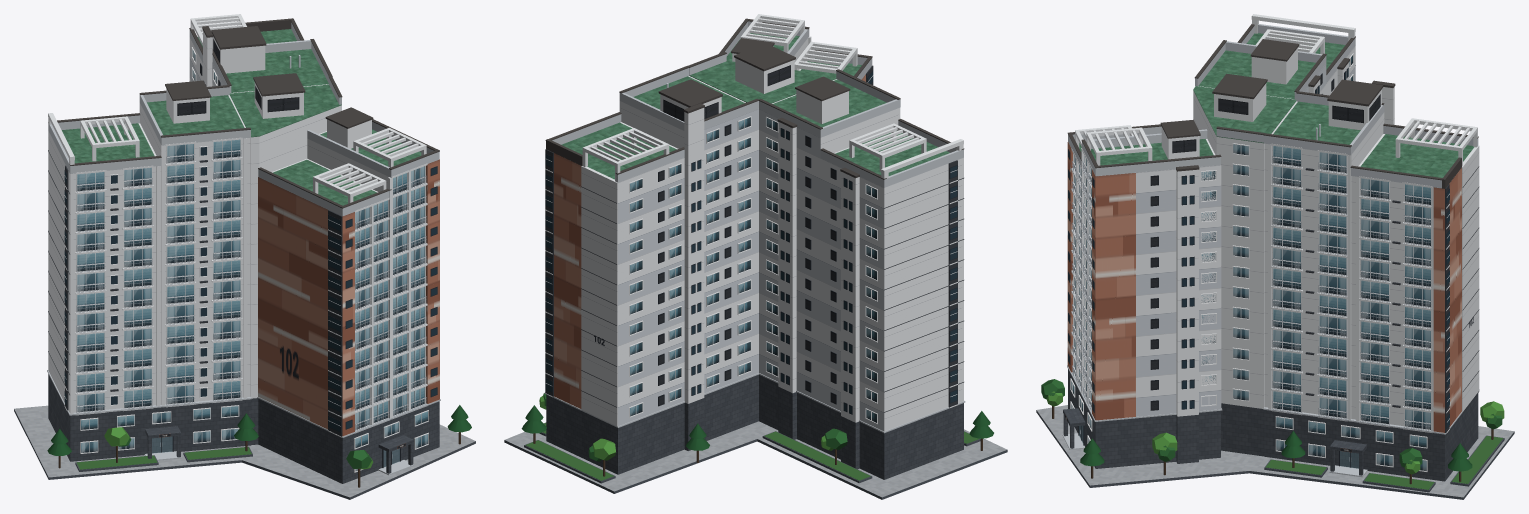
The model's file is place_금호센트럴자이102.glb.
3 views of the same model, side by side, from view 1: azimuth 30°, elevation 25°; view 2: azimuth 150°, elevation 25°; view 3: azimuth 270°, elevation 25° (orthographic).
Visible parts, largest first — view 1: Merged_Glass_FrontB (×2), Merged_Glass_FrontA (×2), Merged_WW_PrecastCore, Merged_Win_WhitePVC (×2), Merged_SE_SW_Terracotta102, Merged_Balc_SilverRail (×2), Merged_Roof_GreenDeck (×3), SiteEnv_ApartmentDeck_Base, Merged_SE_GraniteBase, Merged_Slab_WhiteEdge (×2), Merged_WW_GraniteBase, Merged_Roof_Parapet (×3) (+31 smaller); view 2: Merged_NW_RearBands, Merged_WW_RearBands, Merged_WW_PrecastCore, Merged_Rear_CoreWhite (×2), Merged_NW_WhiteHalfPanel, Merged_NW_GraniteBase, Merged_Glass_Rear (×2), Merged_WW_GraniteBase, SiteEnv_ApartmentDeck_Base, Merged_Roof_Parapet (×3), Merged_NW_TerracottaNorth, Merged_Pergola_White (×3) (+25 smaller); view 3: Merged_Glass_FrontB (×3), Merged_Win_WhitePVC (×3), Merged_SE_NE_Banded, Merged_Glass_FrontA (×2), Merged_NW_PrecastCore, Merged_Hub_PrecastWhite, Merged_SE_NE_TerrWrap, Merged_Balc_SilverRail (×2), Merged_Roof_GreenDeck (×3), SiteEnv_ApartmentDeck_Base, Merged_NW_GraniteBase, Merged_Roof_Parapet (×3) (+40 smaller).
Boxes of the visible parts, bbox=[...] form: Merged_Glass_FrontB (×2): bbox=[77, 144, 427, 471]; Merged_Glass_FrontA (×2): bbox=[77, 139, 427, 448]; Merged_WW_PrecastCore: bbox=[48, 95, 250, 412]; Merged_Win_WhitePVC (×2): bbox=[76, 139, 428, 472]; Merged_SE_SW_Terracotta102: bbox=[258, 177, 327, 429]; Merged_Balc_SilverRail (×2): bbox=[76, 150, 426, 431]; Merged_Roof_GreenDeck (×3): bbox=[62, 29, 421, 205]; SiteEnv_ApartmentDeck_Base: bbox=[14, 405, 475, 499]; Merged_SE_GraniteBase: bbox=[258, 398, 439, 483]; Merged_Slab_WhiteEdge (×2): bbox=[75, 137, 427, 433]; Merged_WW_GraniteBase: bbox=[48, 374, 250, 461]; Merged_Roof_Parapet (×3): bbox=[48, 22, 439, 216]; Merged_NW_RearBands: bbox=[618, 109, 758, 426]; Merged_WW_RearBands: bbox=[759, 109, 883, 431]; Merged_WW_PrecastCore: bbox=[768, 79, 962, 431]; Merged_Rear_CoreWhite (×2): bbox=[684, 108, 859, 422]; Merged_NW_WhiteHalfPanel: bbox=[581, 166, 617, 426]; Merged_NW_GraniteBase: bbox=[546, 374, 758, 474]; Merged_Glass_Rear (×2): bbox=[630, 117, 876, 422]; Merged_WW_GraniteBase: bbox=[759, 375, 963, 479]; SiteEnv_ApartmentDeck_Base: bbox=[504, 421, 1007, 499]; Merged_Roof_Parapet (×3): bbox=[552, 21, 963, 187]; Merged_NW_TerracottaNorth: bbox=[554, 153, 581, 408]; Merged_Pergola_White (×3): bbox=[582, 14, 926, 182]; Merged_Glass_FrontB (×3): bbox=[1071, 144, 1430, 470]; Merged_Win_WhitePVC (×3): bbox=[1070, 143, 1431, 471]; Merged_SE_NE_Banded: bbox=[1136, 165, 1221, 416]; Merged_Glass_FrontA (×2): bbox=[1071, 146, 1430, 447]; Merged_NW_PrecastCore: bbox=[1264, 101, 1476, 426]; Merged_Hub_PrecastWhite: bbox=[1193, 91, 1264, 408]; Merged_SE_NE_TerrWrap: bbox=[1095, 173, 1135, 420]; Merged_Balc_SilverRail (×2): bbox=[1072, 156, 1431, 430]; Merged_Roof_GreenDeck (×3): bbox=[1079, 33, 1474, 177]; SiteEnv_ApartmentDeck_Base: bbox=[1036, 405, 1514, 499]; Merged_NW_GraniteBase: bbox=[1264, 393, 1478, 481]; Merged_Roof_Parapet (×3): bbox=[1068, 24, 1478, 188].
Size of the model in its own units: 56.64 by 47.83 by 60.39.
33 materials, 16 textured.
